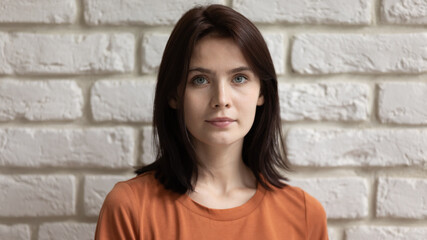teen: (154, 12, 290, 174)
